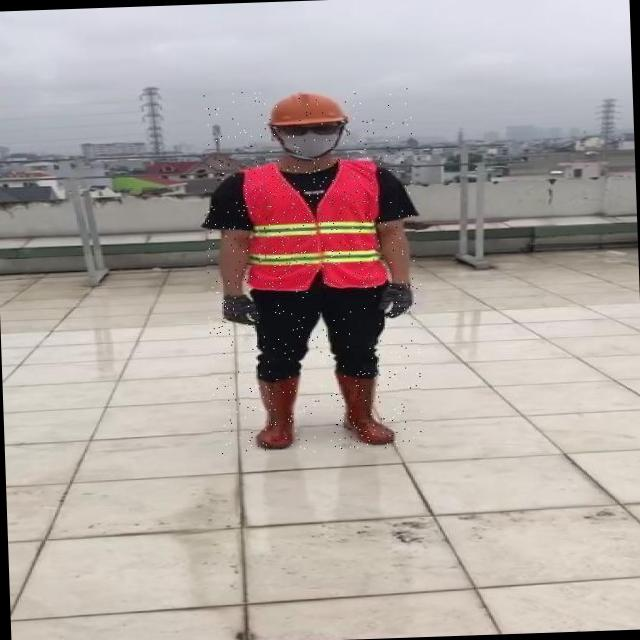boots: (248, 372, 308, 450), (336, 367, 395, 445), (222, 294, 257, 325)
gloves: (378, 281, 414, 318), (222, 294, 258, 326)
hard-hat: (267, 91, 348, 161)
person: (201, 92, 419, 450)
vest: (237, 157, 387, 287)
